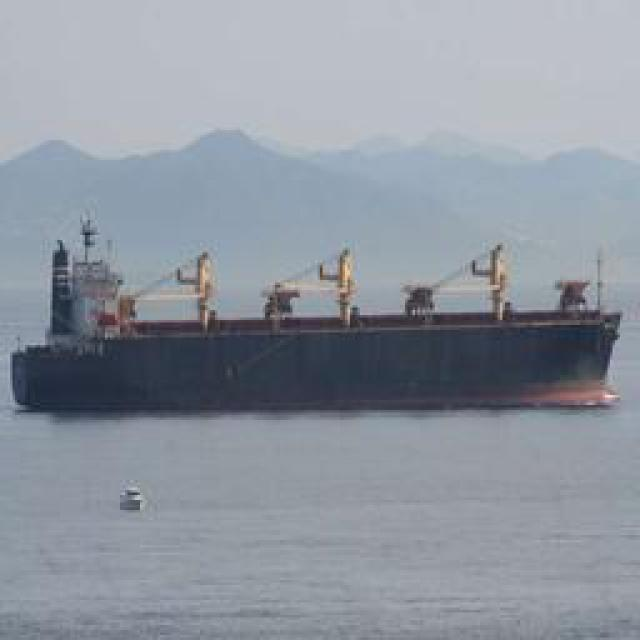Ship: (5, 223, 633, 421)
